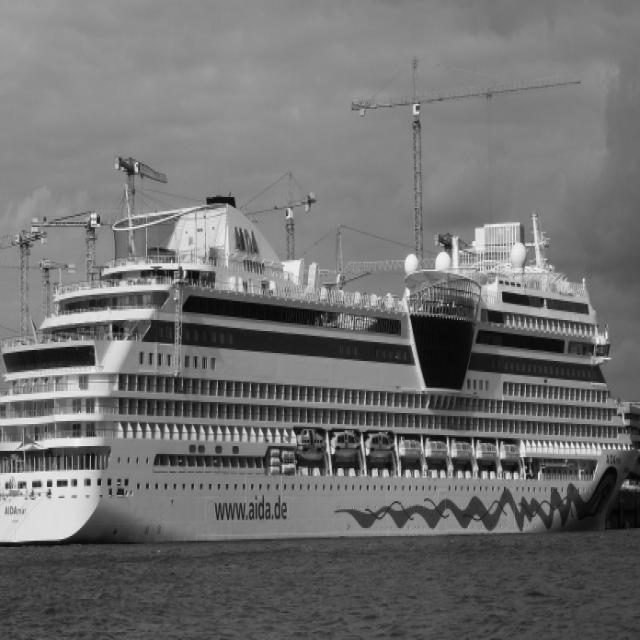cruises: (1, 195, 628, 553)
